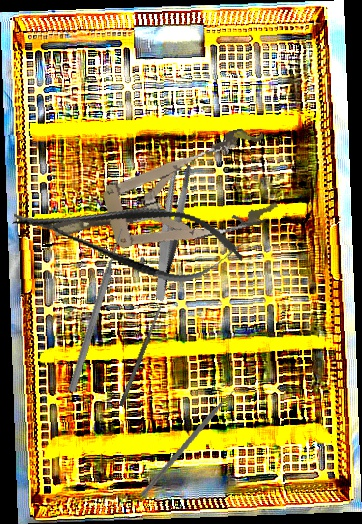Chopper: (140, 376, 246, 511)
Dressing Forceps: (120, 159, 221, 303)
Micro Scissor: (7, 179, 249, 295)
Pusher: (66, 225, 128, 394)
Spatula Surgical: (117, 304, 165, 408)
Speculum: (41, 123, 285, 276)
